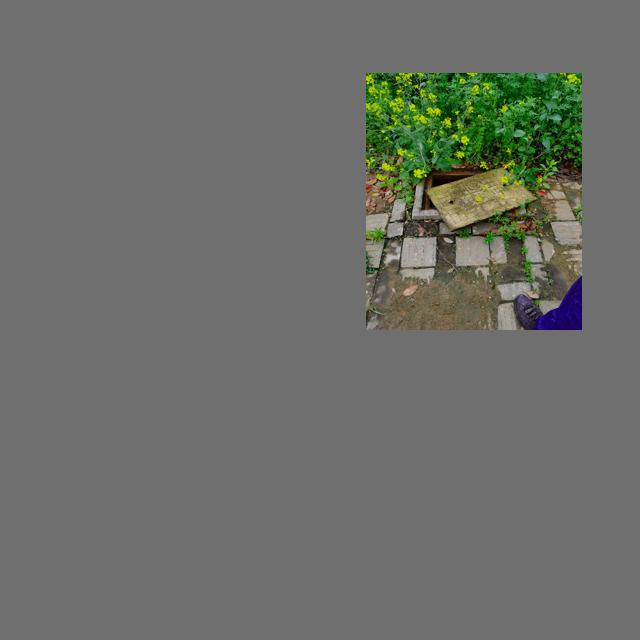uncovered: (412, 162, 538, 230)
